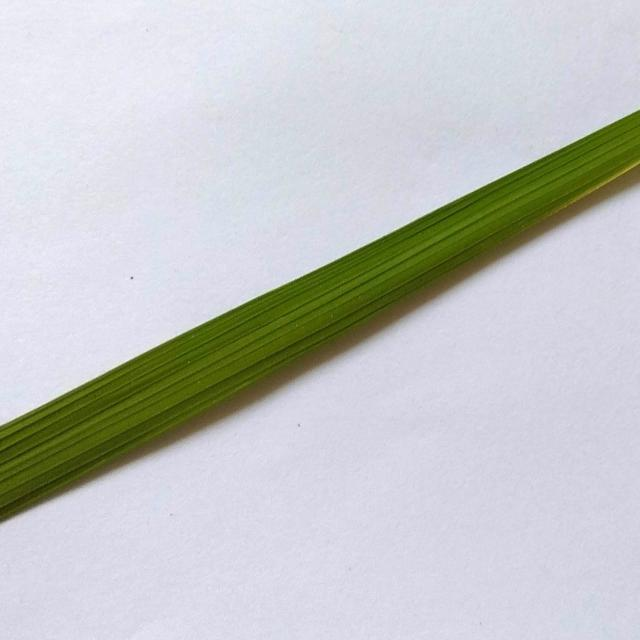Rice_Healthy: (0, 111, 640, 515)
